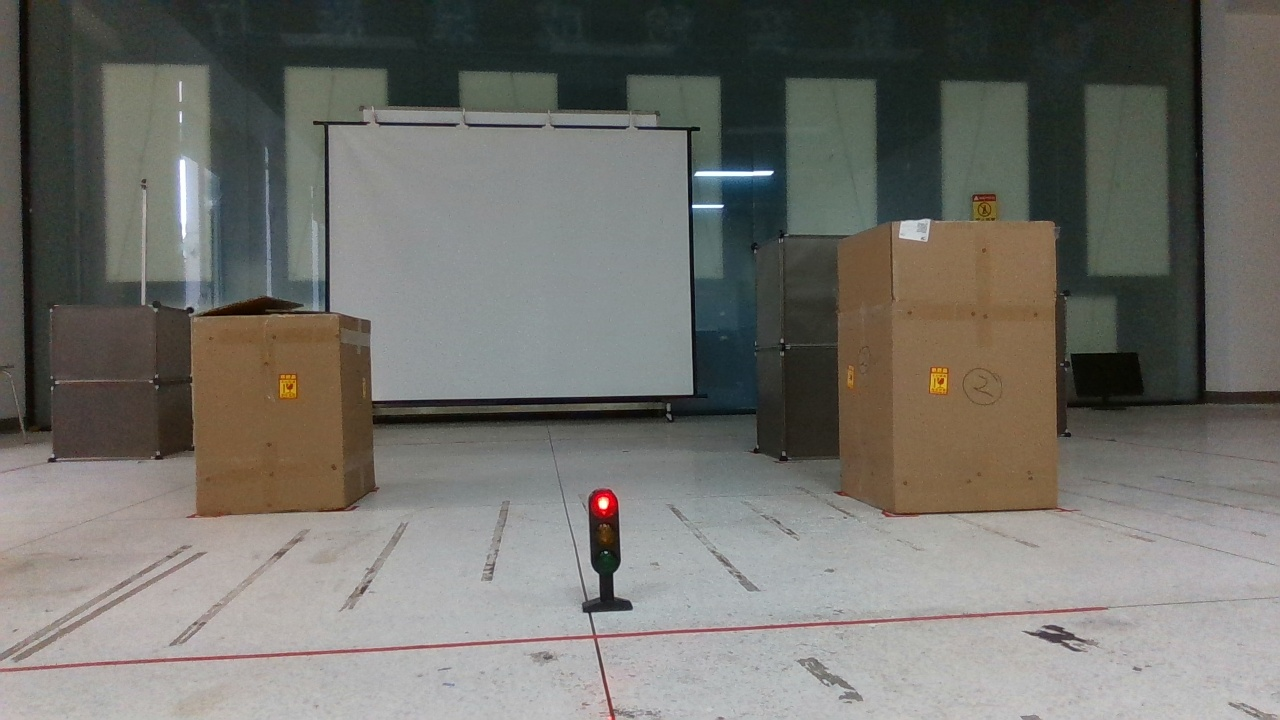red_light: (573, 482, 647, 626)
